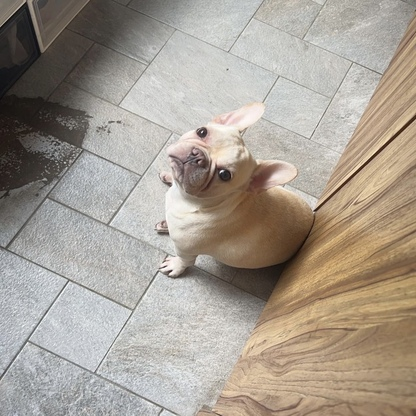bulldog: (153, 100, 319, 279)
